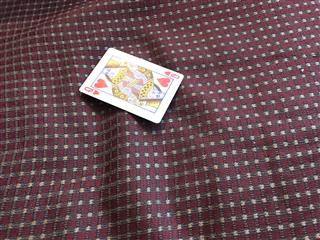QueenOfHearts: (78, 47, 184, 123)
